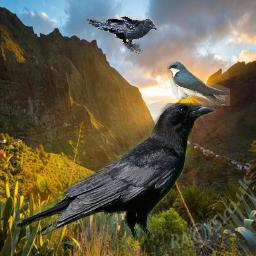Crow: (15, 103, 216, 244), (86, 16, 157, 54)
Swallow: (167, 61, 230, 106)
